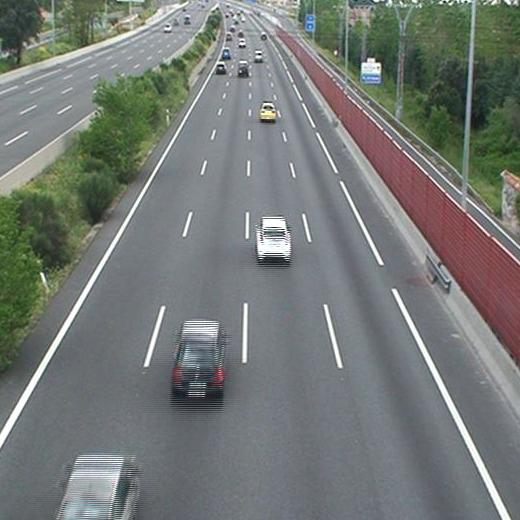car: (55, 456, 136, 520), (172, 322, 222, 394), (256, 217, 291, 260), (260, 102, 276, 119), (237, 61, 248, 74), (215, 63, 226, 74), (253, 50, 263, 61), (221, 48, 231, 58), (238, 39, 245, 47)
